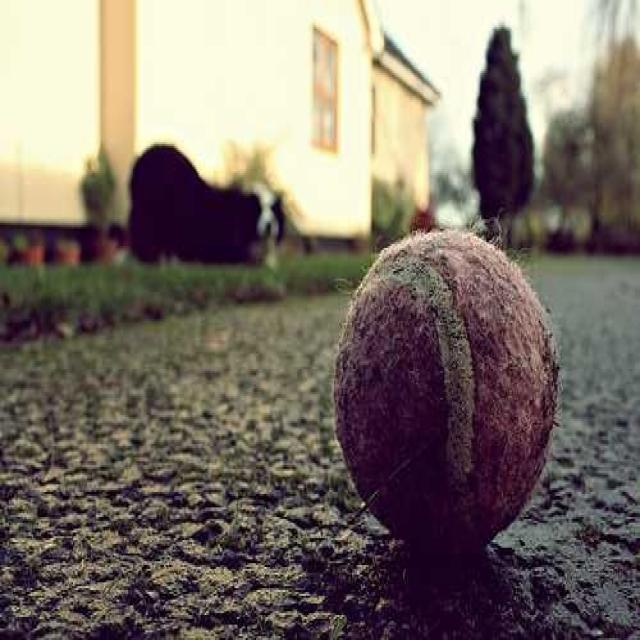Tennis_Ball: (335, 226, 548, 544)
